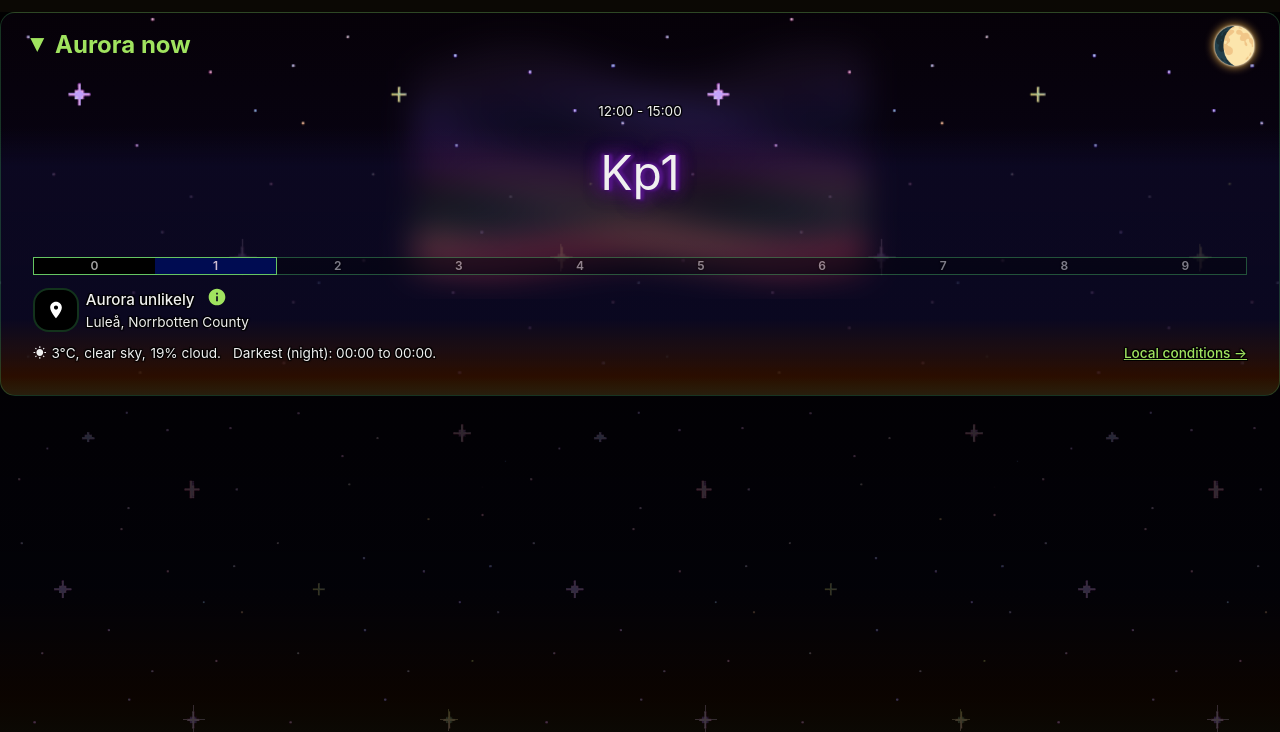
Test: AuroraNow › shows the current moon phase emoji in a help popover with sr-only label
The image size is (1280, 732).
Check: the picture with class "kp-bar" is shown, box left=32, top=256, right=285, bottom=271
Check: the element with class "live-panel__help--moon" is shown, box left=1206, top=22, right=1247, bottom=68
Note: The popover explains the phase and why it matters for aurora
Step 1. Click the button "🌔" → (1235, 45), box left=1206, top=22, right=1263, bottom=68
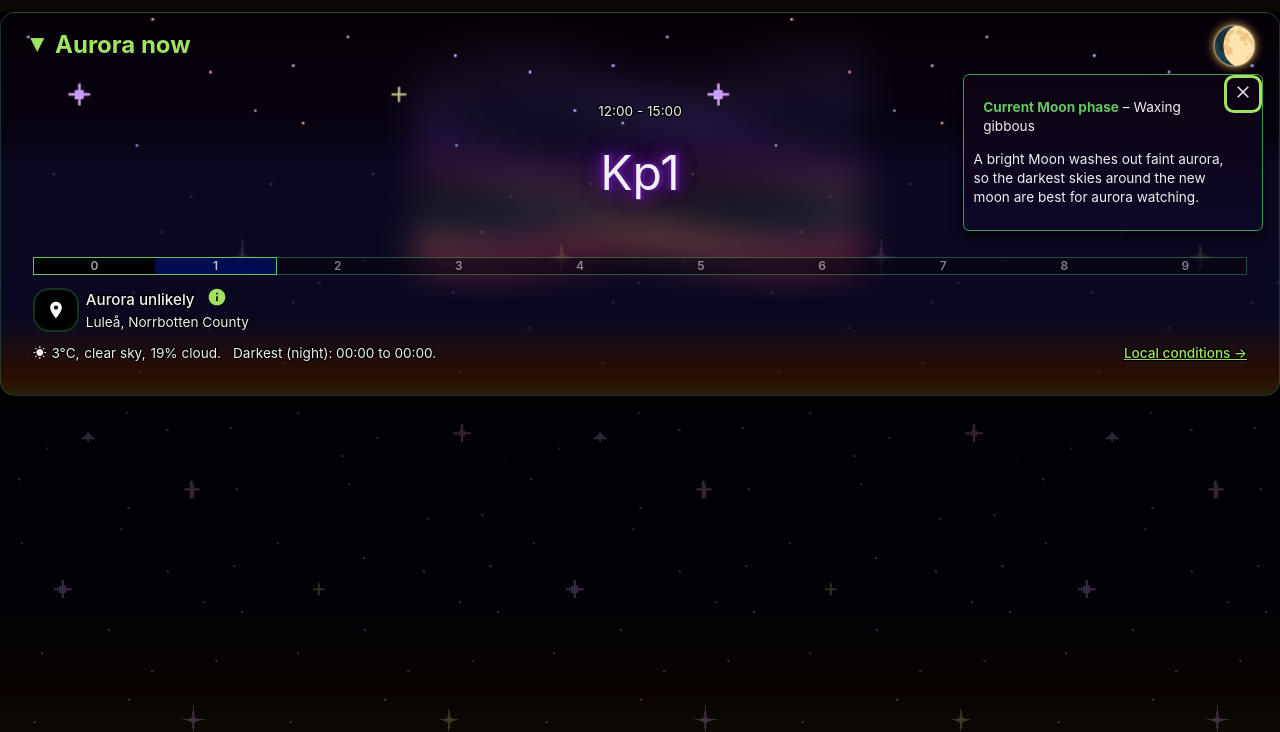
Check: the element with class "live-panel__popover" shows "Waxing gibbous", box left=983, top=99, right=1181, bottom=134
Check: the element with class "live-panel__popover" shows "darkest skies around the new moon", box left=974, top=151, right=1224, bottom=205
